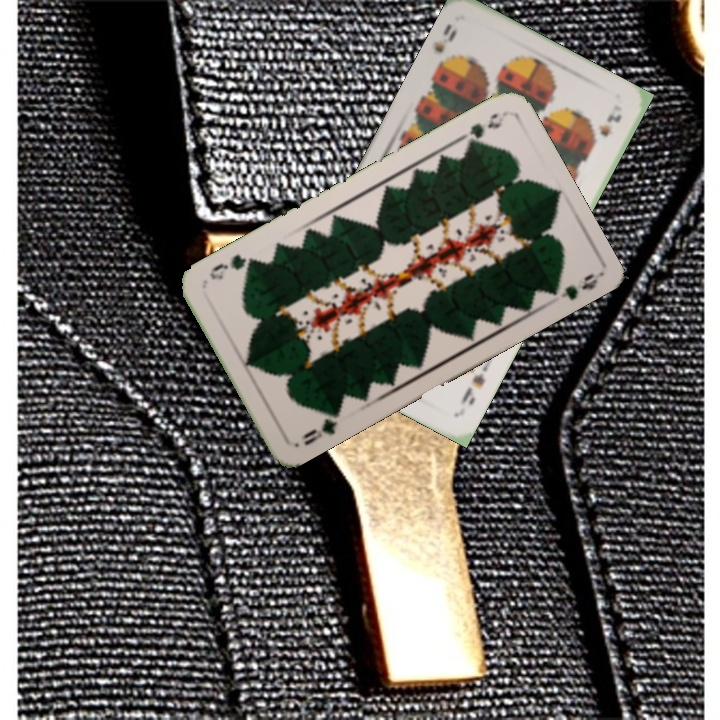G9: (453, 109, 504, 149), (296, 408, 342, 449)
S9: (429, 19, 459, 73), (456, 369, 488, 408)
